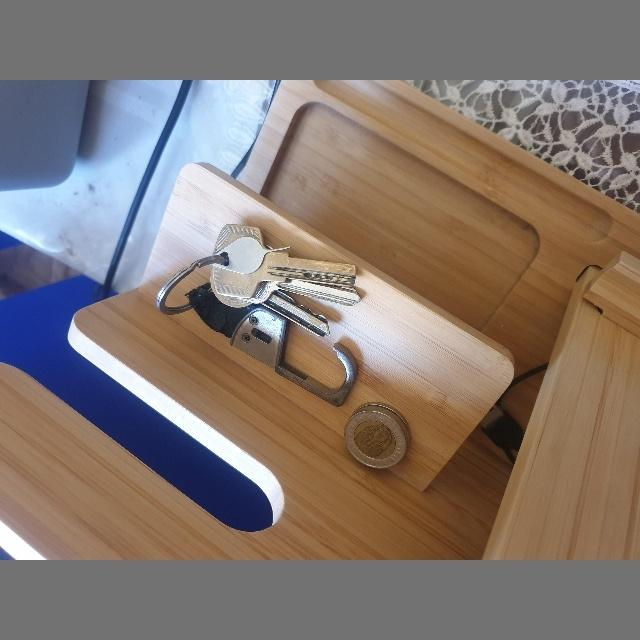Keys: (267, 230, 489, 420)
